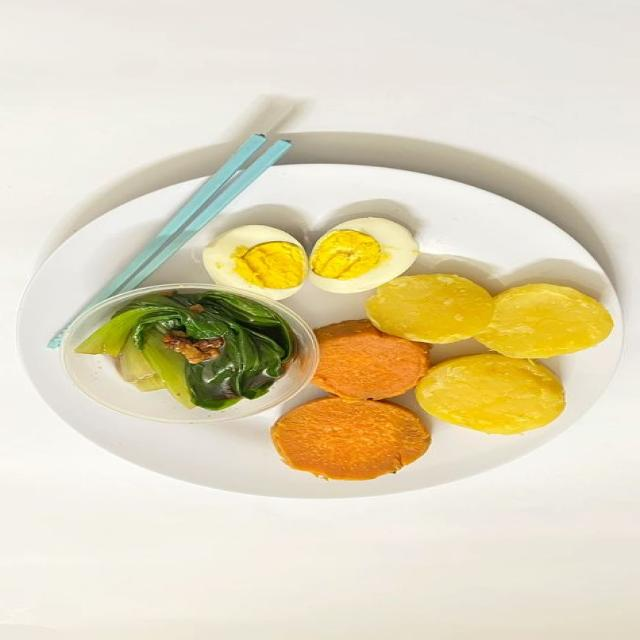kentang rebus: (416, 351, 566, 435), (477, 279, 614, 359), (365, 271, 497, 343)
telur rebus: (312, 214, 420, 293), (200, 221, 312, 296)
